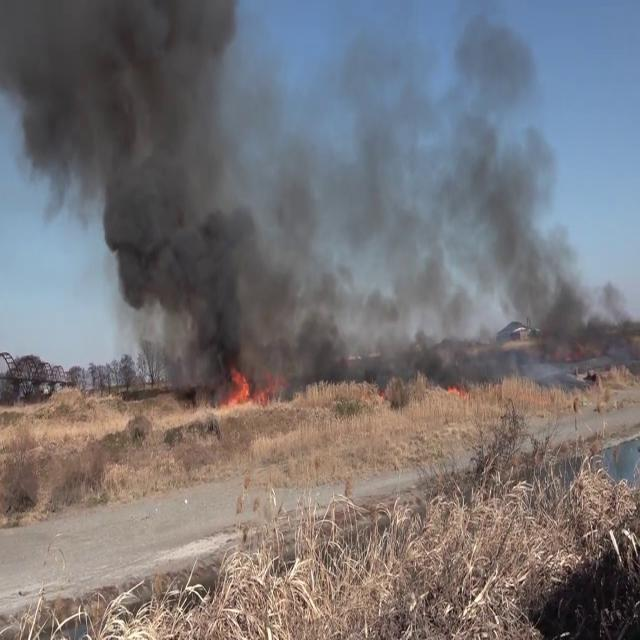Fire: (210, 357, 258, 415)
Smoke: (255, 4, 638, 378), (0, 0, 293, 381), (370, 7, 638, 370)
